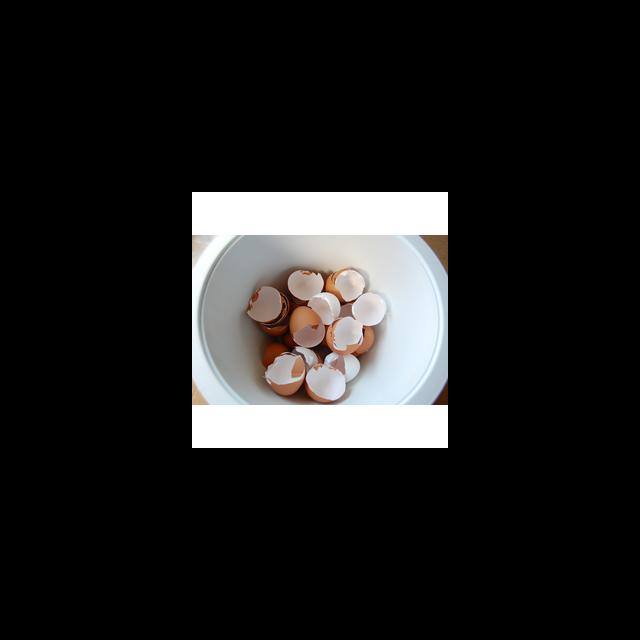food_waste: (287, 303, 340, 362), (246, 281, 304, 334), (305, 282, 357, 332), (339, 279, 389, 330), (300, 355, 345, 409), (320, 315, 375, 359), (262, 340, 301, 394), (319, 261, 366, 298), (316, 350, 369, 382), (284, 264, 329, 299), (284, 337, 325, 367)
